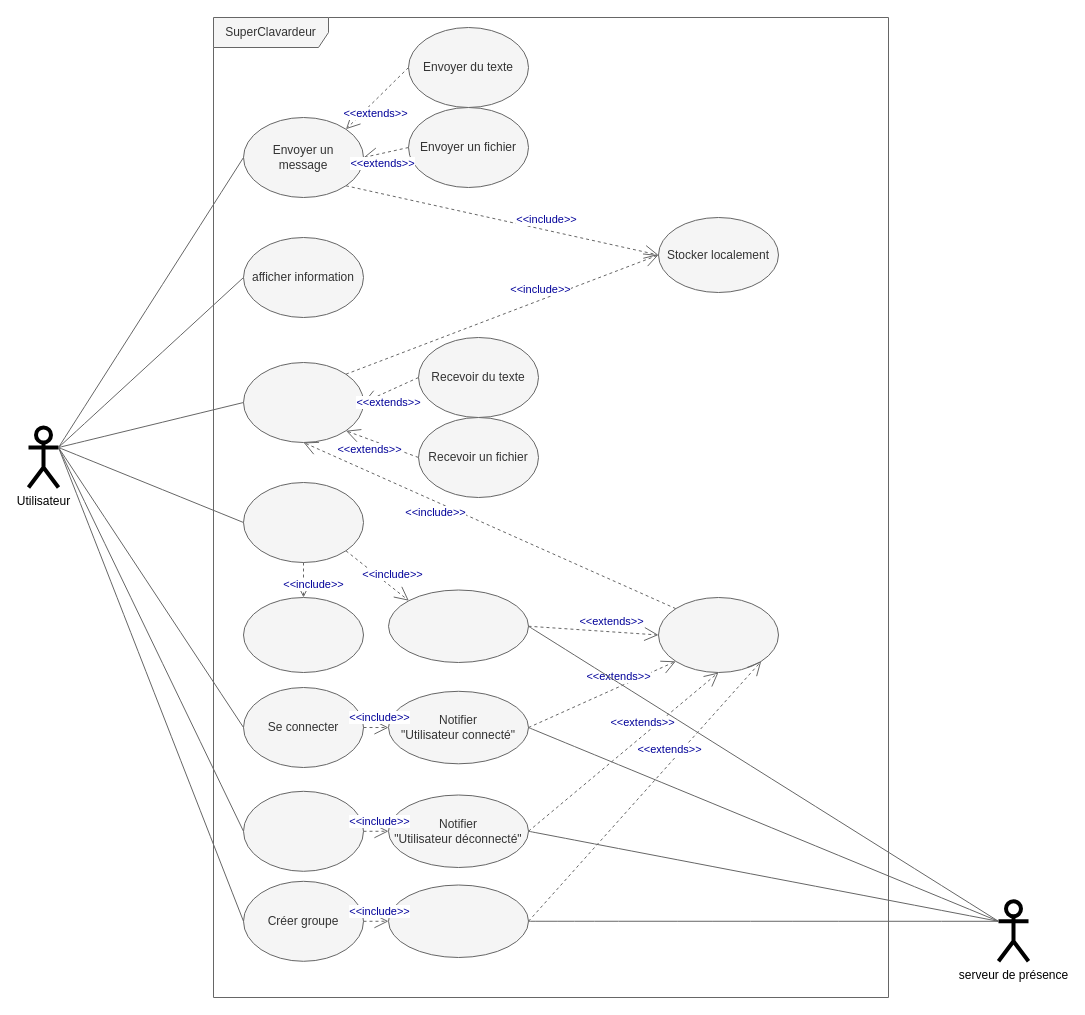
This 1085x1015 diagram has some shape labels left out. Each missing label, with the centre of its shape:
Changer de pseudo: point 303,522
Notifier: point 718,634
Notifier "Nouveau groupe créé": point 458,921
Notifier "Pseudo changé": point 458,625
Recevoir: point 303,402
Se déconnecter: point 303,830
test uncité: point 303,634
